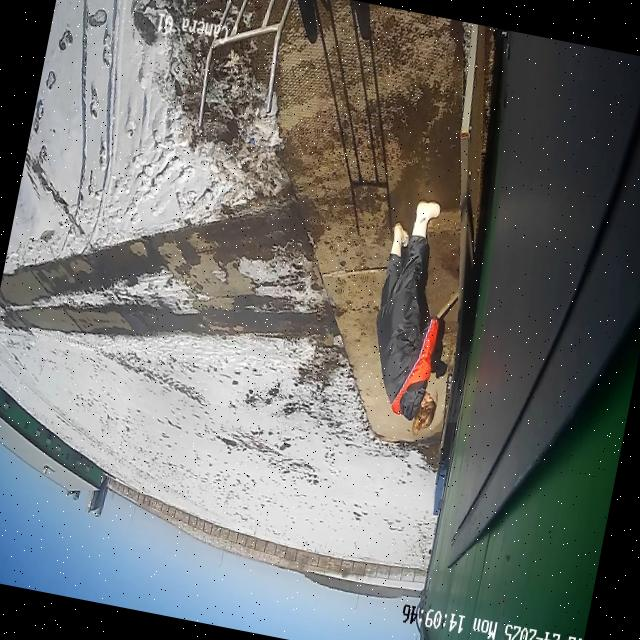Red uniform: (353, 191, 478, 439)
